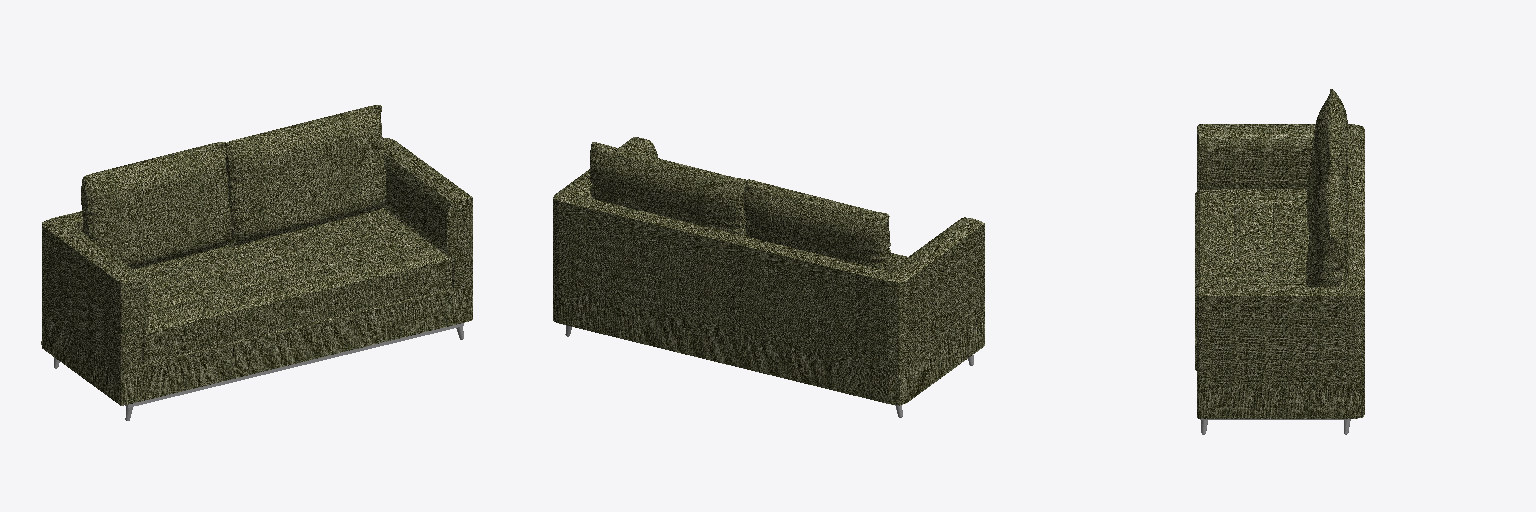
The picture shows the model from 3 angles: view 1: azimuth 30°, elevation 25°; view 2: azimuth 150°, elevation 25°; view 3: azimuth 270°, elevation 25°; orthographic projection.
Visible parts, largest first — view 1: Plane, Cube_Cube.001, Cube.001_Cube.004, Cube.002_Cube.003, Cylinder; view 2: Plane, Cube.001_Cube.004, Cube.002_Cube.003; view 3: Plane, Cube_Cube.001, Cube.001_Cube.004, Cube.002_Cube.003.
Part boxes in pixels (left/top/right/bottom): Plane: left=41, top=138, right=472, bottom=405; Cube_Cube.001: left=134, top=208, right=451, bottom=363; Cube.001_Cube.004: left=225, top=105, right=386, bottom=246; Cube.002_Cube.003: left=81, top=142, right=230, bottom=269; Cylinder: left=54, top=323, right=463, bottom=420; Plane: left=553, top=137, right=984, bottom=405; Cube.001_Cube.004: left=590, top=142, right=746, bottom=236; Cube.002_Cube.003: left=744, top=179, right=892, bottom=269; Plane: left=1197, top=124, right=1364, bottom=418; Cube_Cube.001: left=1195, top=188, right=1344, bottom=370; Cube.001_Cube.004: left=1306, top=158, right=1347, bottom=286; Cube.002_Cube.003: left=1306, top=89, right=1347, bottom=234.
Size of the model in its own units: 71 by 37.34 by 29.8.
Materials: 5 (1 with a texture image).